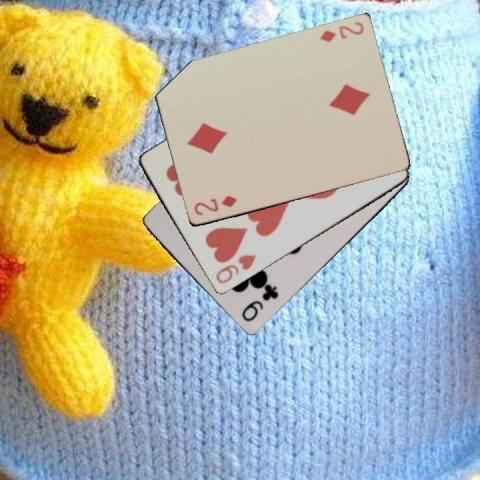2d: (316, 19, 365, 44), (191, 193, 238, 217)
9c: (238, 284, 280, 324)
9h: (213, 252, 257, 286)
